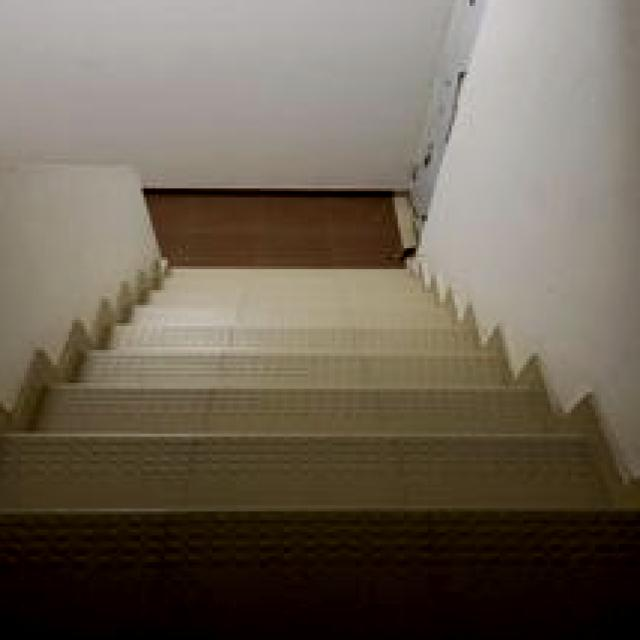downstair: (73, 372, 497, 572)
